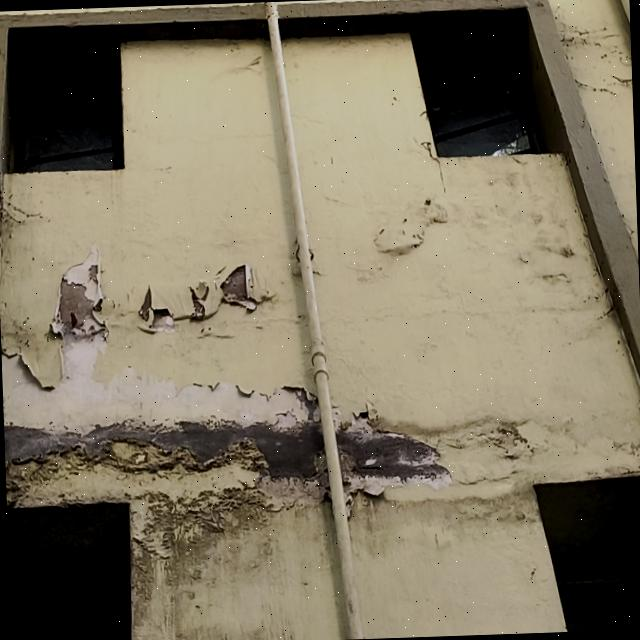peeling: (3, 419, 330, 624), (1, 336, 308, 432), (338, 424, 450, 517), (138, 264, 271, 332), (426, 423, 532, 485), (50, 247, 107, 336), (373, 197, 447, 254)
